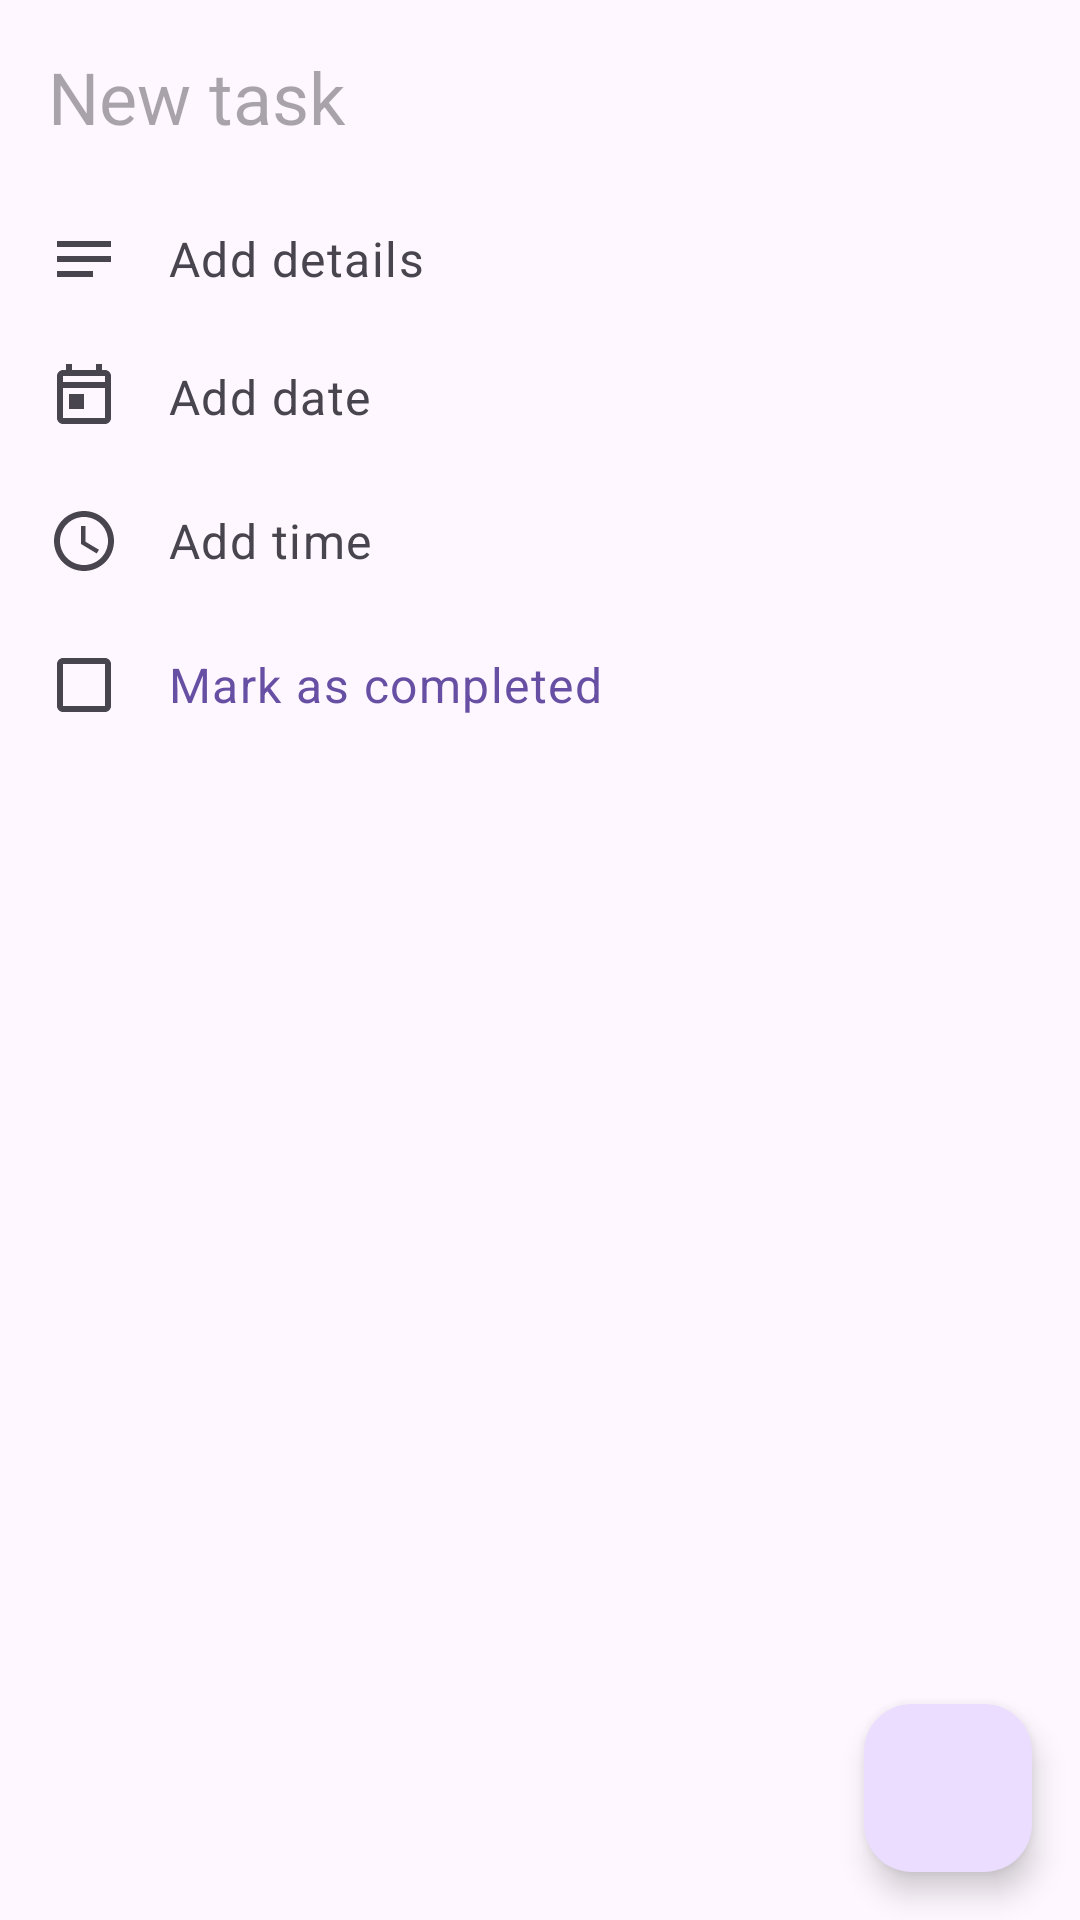

Where icons sit on this 1080 x 1920 app screen, as [left=x1, top=y1, right=x2, bottom=y2]:
calender today: [left=57, top=364, right=111, bottom=424]
clock: [left=54, top=511, right=114, bottom=571]
notes: [left=57, top=241, right=111, bottom=277]
